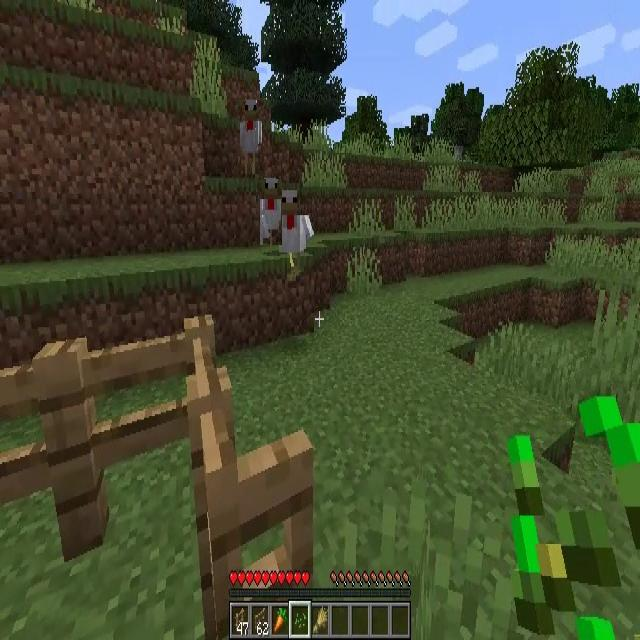duck: (276, 190, 312, 275), (238, 100, 264, 174), (260, 179, 282, 245)
